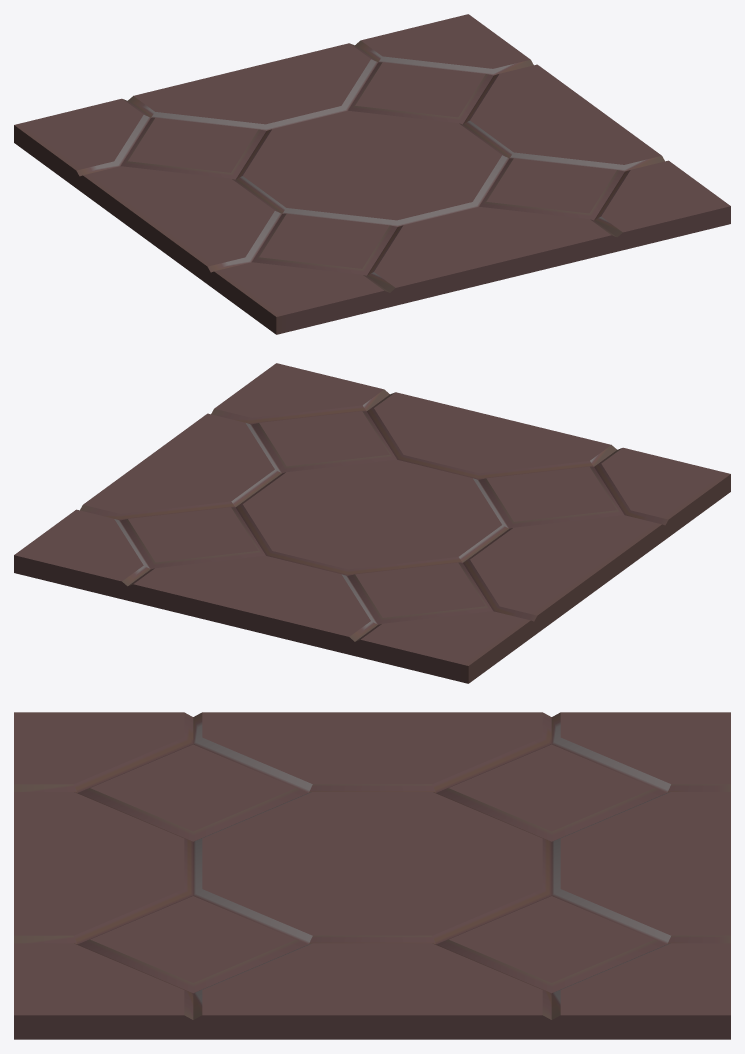
File: floor.glb
3 views of the same model, one above another, from view 1: azimuth 30°, elevation 25°; view 2: azimuth 150°, elevation 25°; view 3: azimuth 270°, elevation 25° (orthographic). The views are drawn at different scales.
Visible parts, largest first — view 1: floor; view 2: floor; view 3: floor.
Part boxes in pixels (bbox=[...]): floor: bbox=[14, 14, 730, 334]; floor: bbox=[14, 363, 730, 683]; floor: bbox=[14, 712, 730, 1039].
Bounding box in the file's own units: 4 × 0.15 × 4.
Materials: 1 (1 with a texture image).
